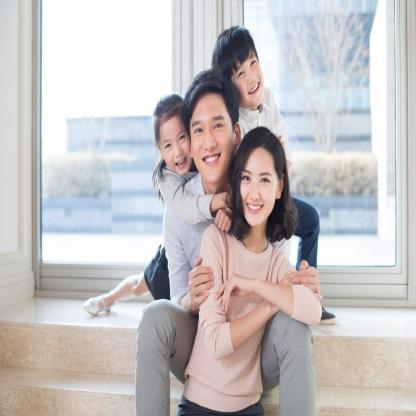person: (190, 75, 244, 190), (235, 126, 287, 240), (214, 28, 271, 110), (154, 98, 194, 183)
